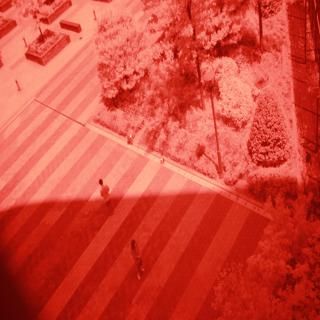person: (125, 230, 149, 288), (94, 169, 119, 220)
